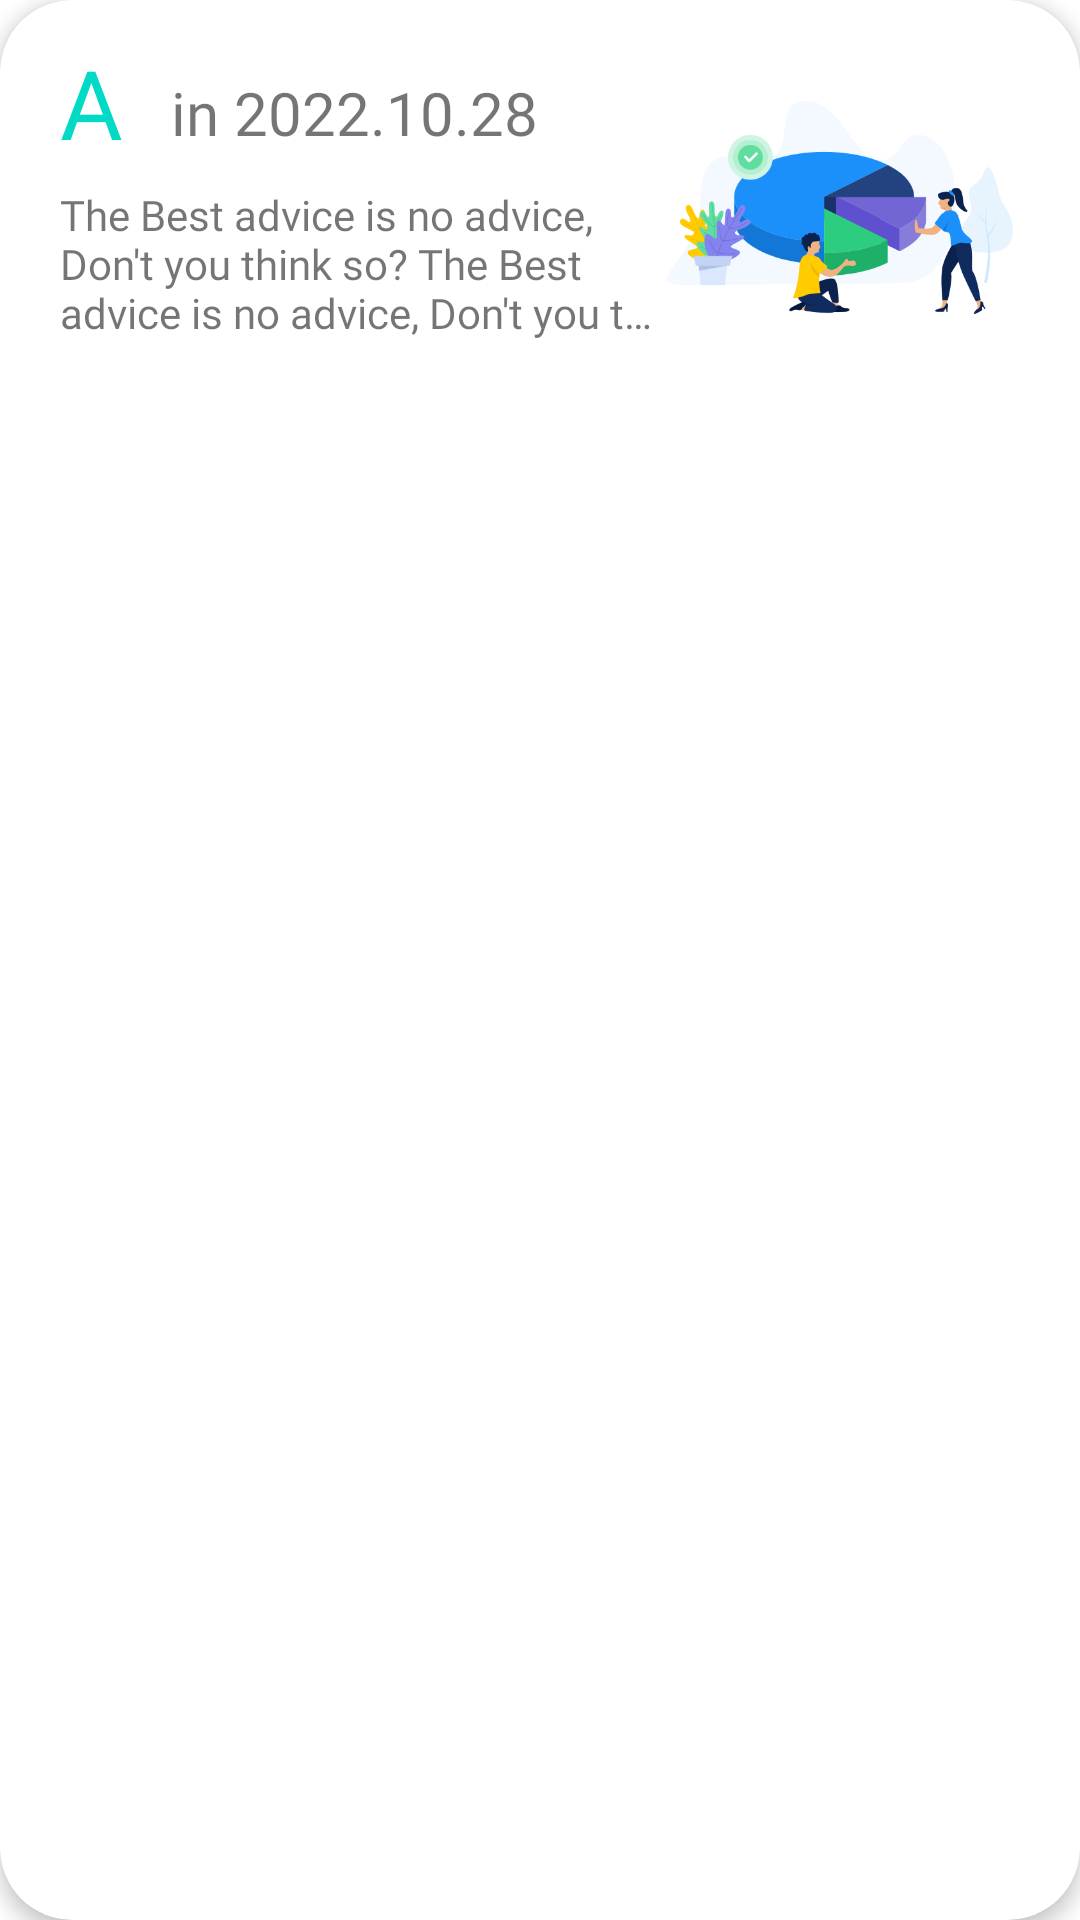

Named icons in this screenshot (1080*1920) and their bounding boxes, (x1, y1, x2, y2):
analyze: (648, 135, 998, 329)
